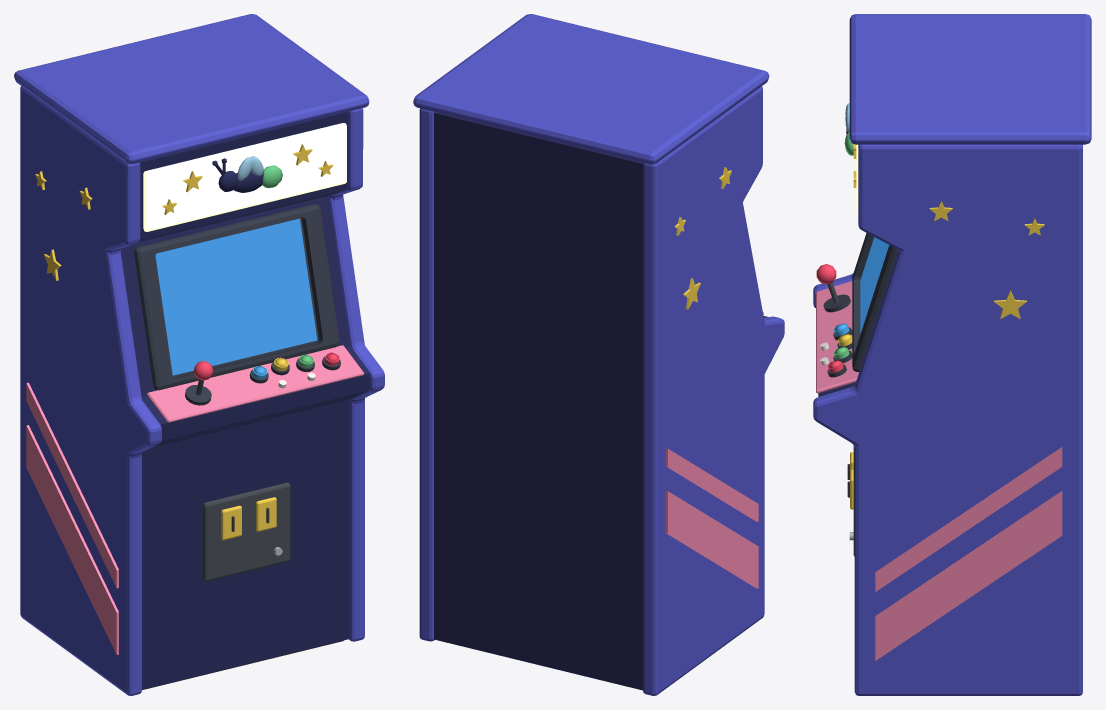
The model's file is fliperama.glb.
3 views of the same model, side by side, from view 1: azimuth 30°, elevation 25°; view 2: azimuth 150°, elevation 25°; view 3: azimuth 270°, elevation 25° (orthographic). The views are drawn at different scales.
Visible parts, largest first — view 1: fliperama, tela; view 2: fliperama; view 3: fliperama, tela.
Part boxes in pixels (<box>): fliperama: <box>14,14,384,695</box>; tela: <box>155,218,317,375</box>; fliperama: <box>413,14,784,695</box>; fliperama: <box>813,14,1091,695</box>; tela: <box>860,237,889,333</box>.
Size of the model in its own units: 0.84 by 1.8 by 0.805.
